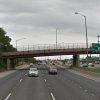Bridge: (4, 41, 99, 61)
